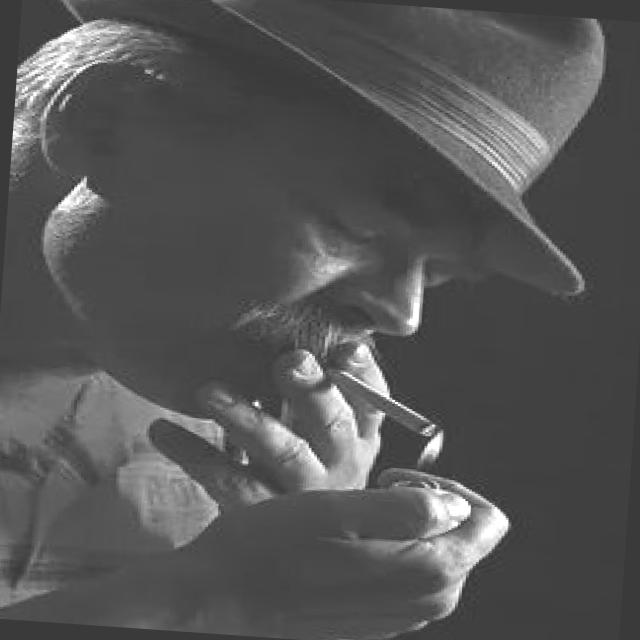smoke: (312, 358, 444, 440)
